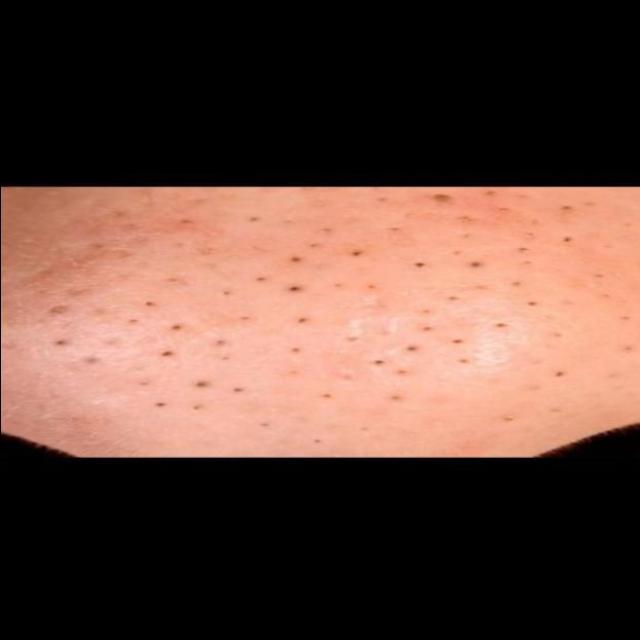blackhead: (26, 219, 595, 420)
